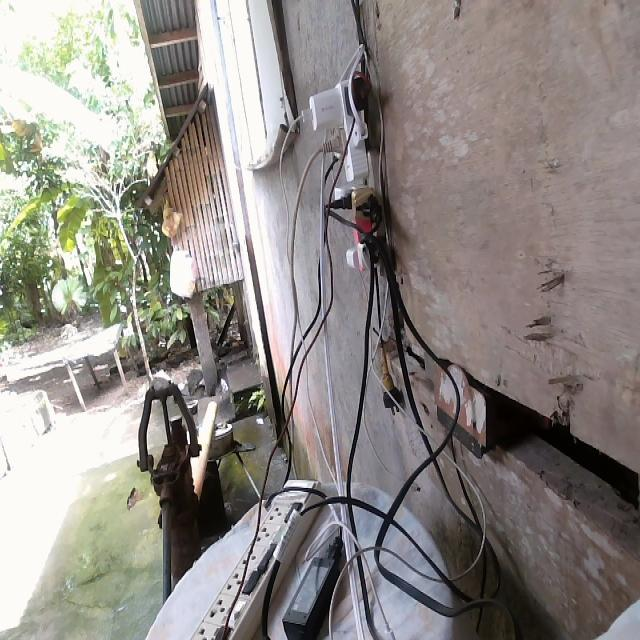-: (298, 69, 384, 275)
